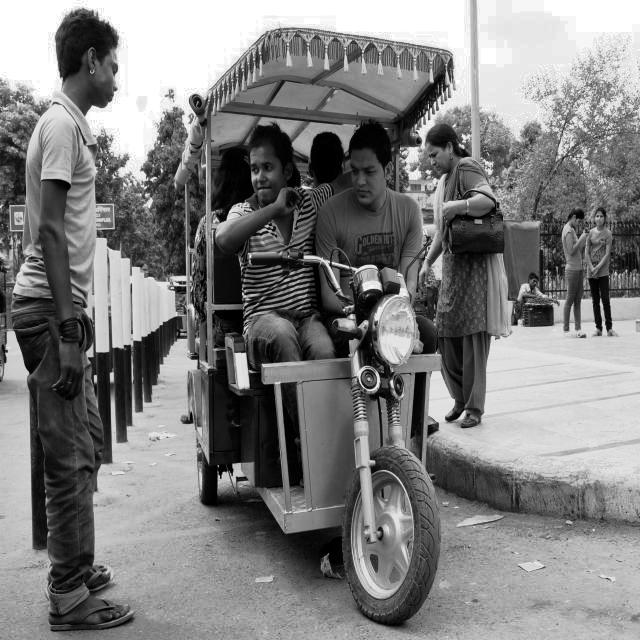Toto: (185, 20, 461, 634)
